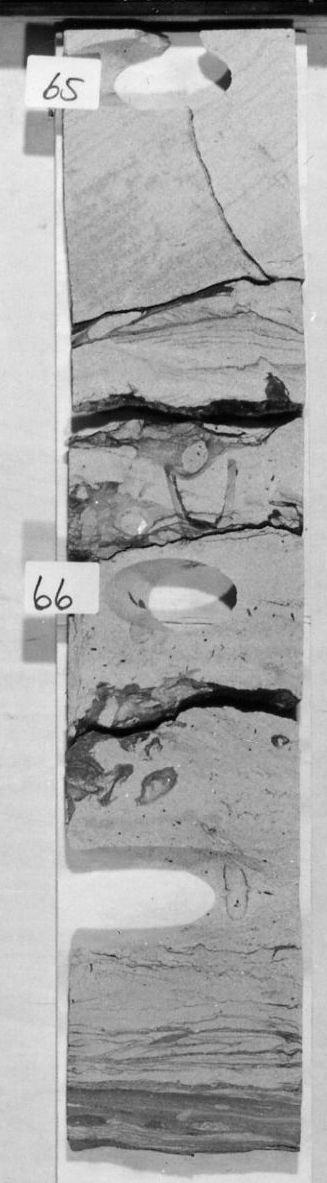hplug: (69, 38, 241, 120), (96, 555, 250, 636)
scal: (69, 833, 295, 967)
vplug: (159, 448, 245, 548)
